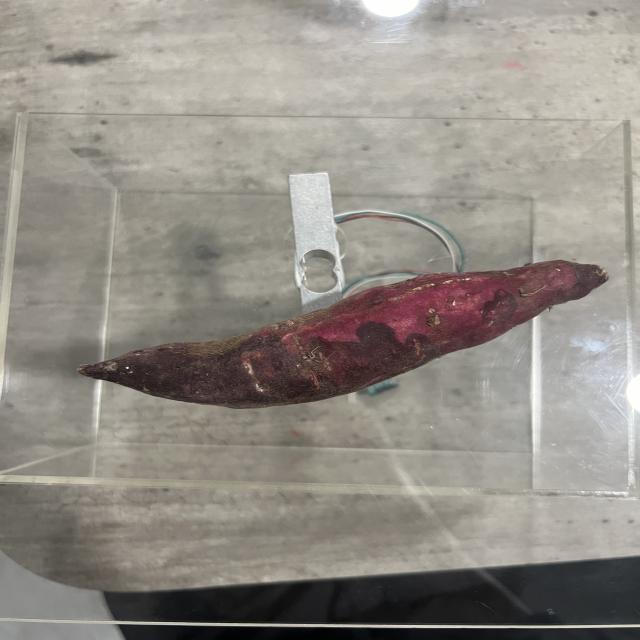sweet potato: (73, 253, 607, 402)
